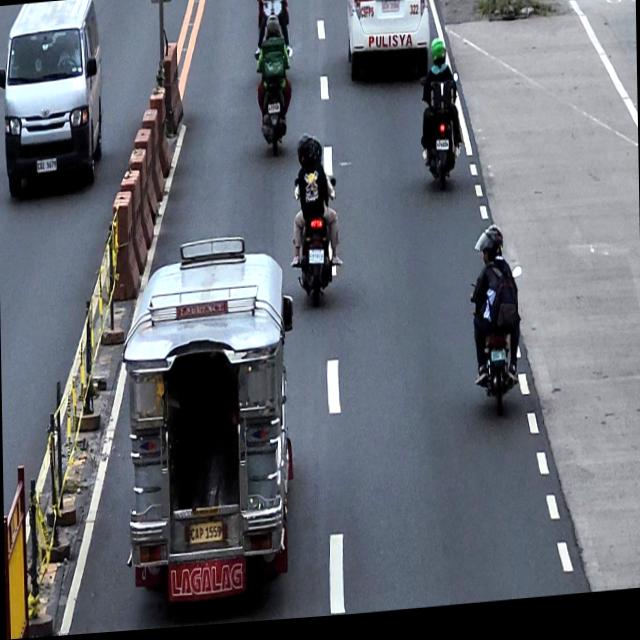Car: (0, 0, 102, 201), (339, 0, 432, 102)
Jeep: (126, 232, 292, 622)
License-Plate: (188, 524, 224, 549), (34, 157, 58, 175), (380, 2, 400, 21), (306, 251, 324, 270), (489, 355, 507, 371), (434, 144, 450, 159), (266, 106, 280, 118)
Motorcycle: (472, 267, 524, 416), (292, 174, 338, 314), (418, 78, 460, 193), (254, 48, 294, 160), (255, 0, 289, 54)
